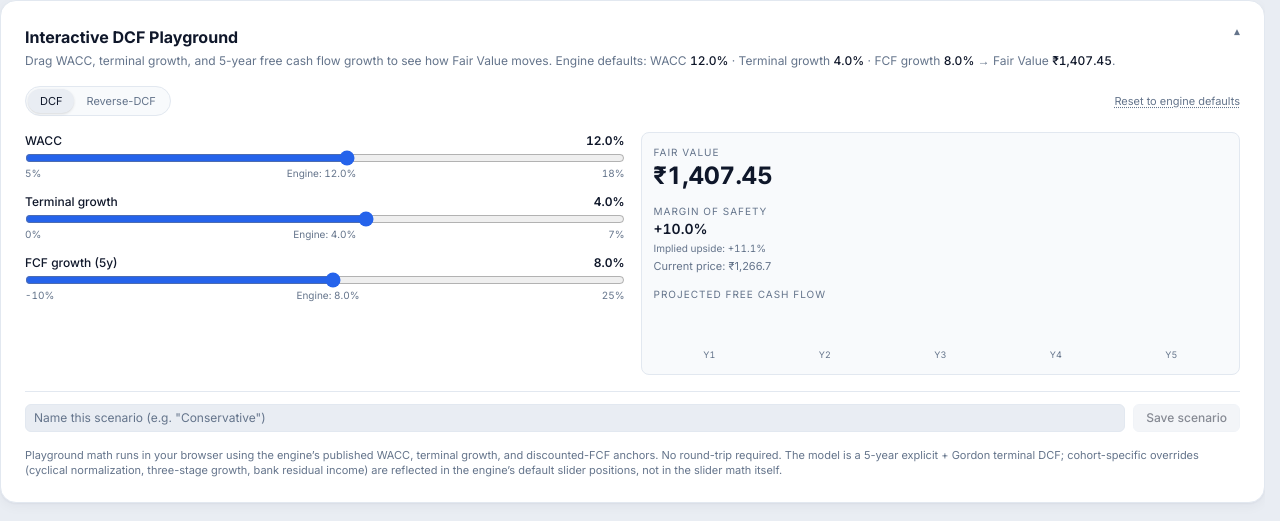
Test: InteractiveDcfPlayground — slider defaults and interactivity › reset-to-defaults restores engine slider positions
The image size is (1280, 521).
Set the slider with test id "slider-wacc" to "15": (482, 158) left=25, top=154, right=624, bottom=162
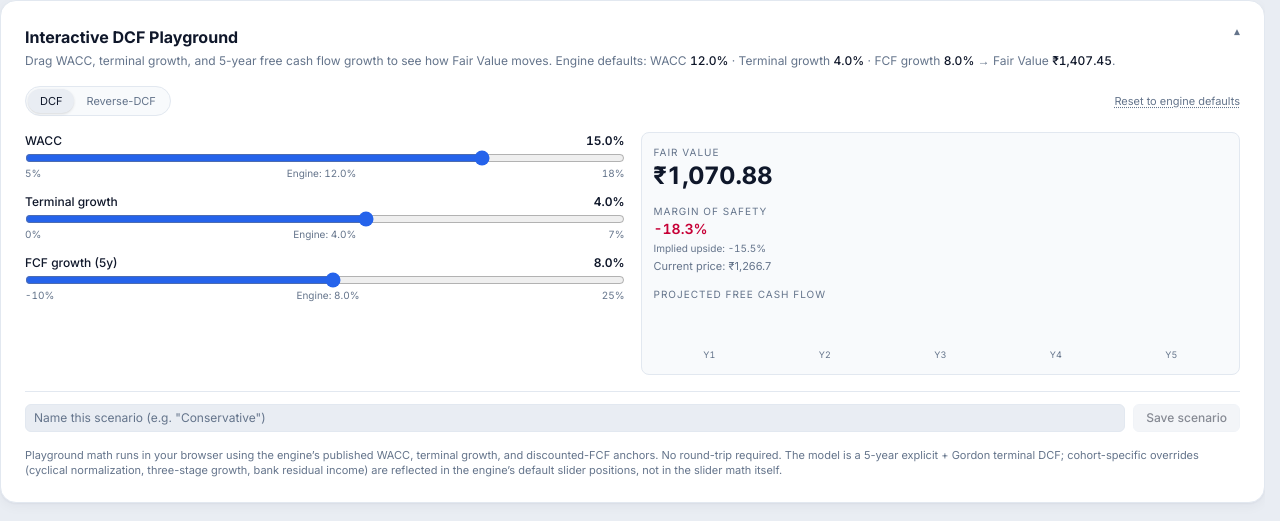
Check: the text with test id "slider-wacc-value" shows "15.0", box left=586, top=133, right=612, bottom=148
Click the button with test id "playground-reset": (1177, 101) left=1114, top=92, right=1240, bottom=109
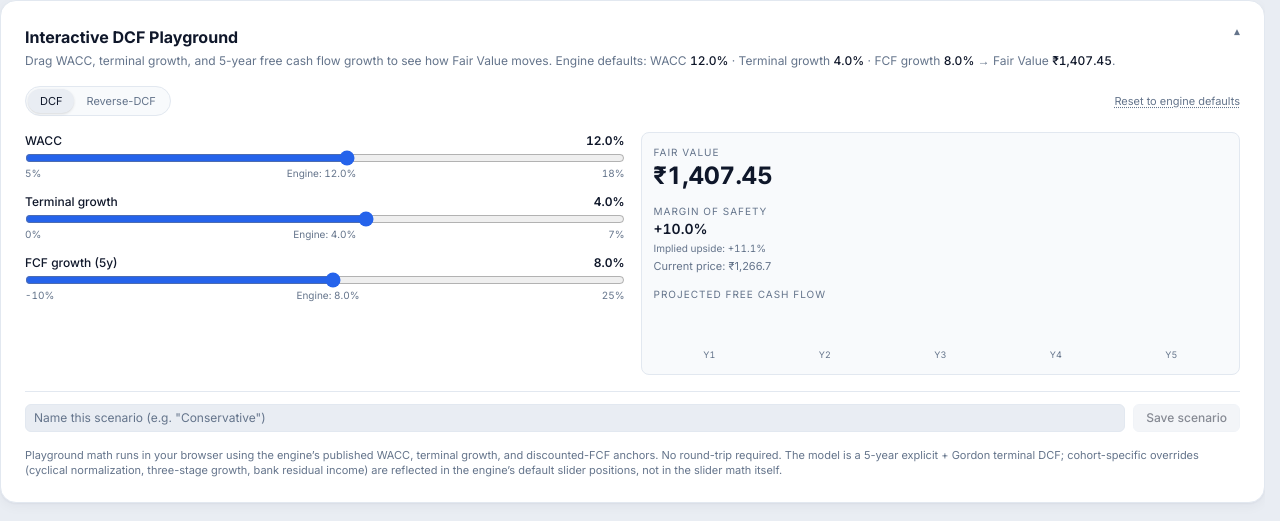
Check: the text with test id "slider-wacc-value" shows "12.0", box left=586, top=133, right=612, bottom=148
